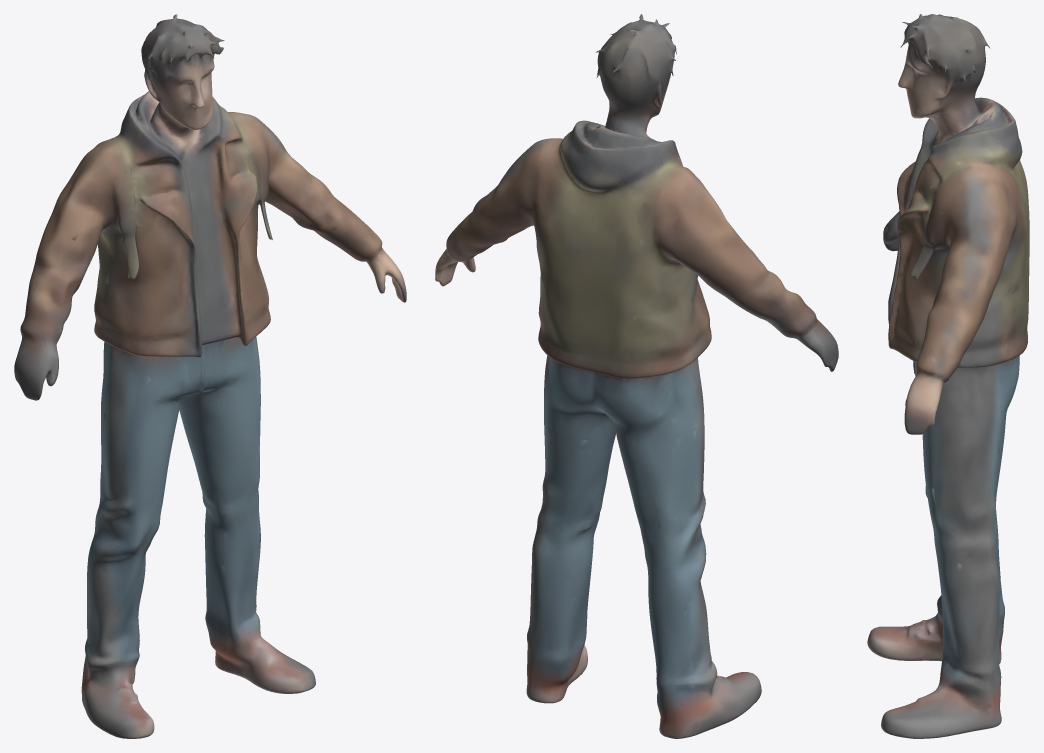
Rendered from hero-body.glb.
3 renders of one model, left to right at view 1: azimuth 30°, elevation 25°; view 2: azimuth 150°, elevation 25°; view 3: azimuth 270°, elevation 25°, orthographic.
Parts seen in each view (by area): view 1: geometry_0; view 2: geometry_0; view 3: geometry_0.
Part boxes in pixels (bbox=[...]): geometry_0: bbox=[14, 14, 406, 738]; geometry_0: bbox=[435, 14, 838, 738]; geometry_0: bbox=[867, 14, 1029, 738].
Bounding box in the file's own units: 0.596 × 1 × 0.2182.
